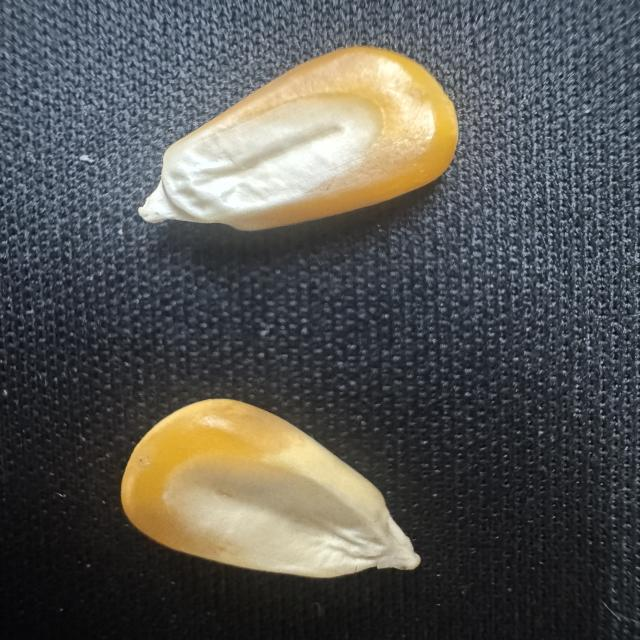Good-Seed: (134, 41, 463, 236), (115, 393, 428, 586)
